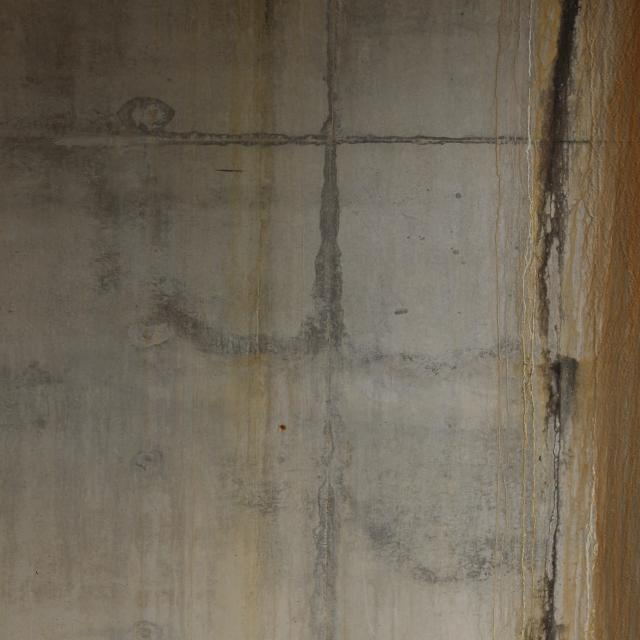corrosion: (0, 1, 302, 640), (476, 8, 640, 640)
